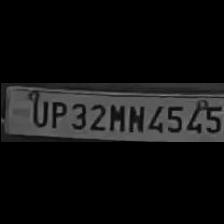2: (86, 98, 106, 130)
3: (66, 98, 86, 130)
4: (144, 101, 164, 133), (184, 100, 204, 132)
5: (202, 100, 222, 134), (163, 101, 183, 133)
M: (106, 100, 124, 132)
N: (124, 101, 144, 133)
P: (46, 97, 66, 128)
U: (26, 96, 46, 127)
